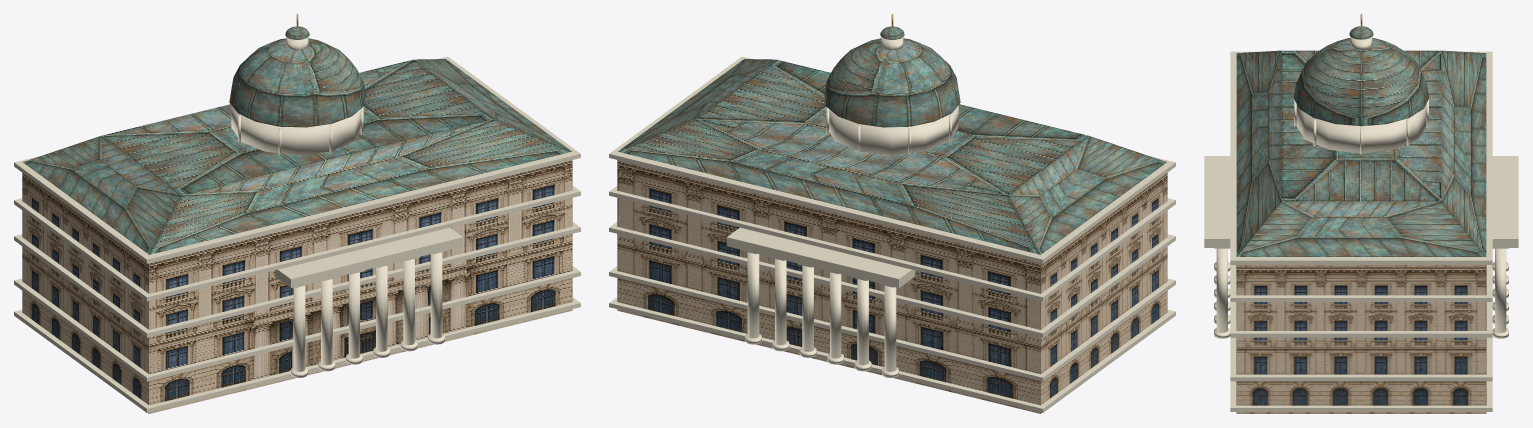
Rendered from hsbc-lod2.glb.
3 views of the same model, side by side, from view 1: azimuth 30°, elevation 25°; view 2: azimuth 150°, elevation 25°; view 3: azimuth 270°, elevation 25° (orthographic).
Visible parts, largest first — view 1: hsbc_architecture; view 2: hsbc_architecture; view 3: hsbc_architecture.
Part boxes in pixels (left/top/right/bottom): hsbc_architecture: left=14, top=14, right=580, bottom=413; hsbc_architecture: left=609, top=14, right=1175, bottom=413; hsbc_architecture: left=1204, top=14, right=1518, bottom=413.
Size of the model in its own units: 27.7 by 18.4 by 17.6.
Materials: 6 (4 with a texture image).
